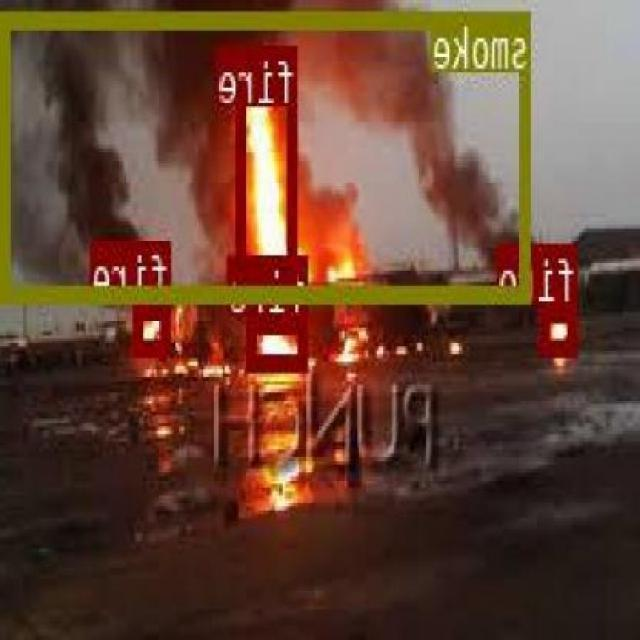Fire: (237, 44, 300, 293), (250, 314, 308, 368), (136, 300, 173, 351), (542, 302, 580, 351)
Smoke: (5, 9, 532, 297)
